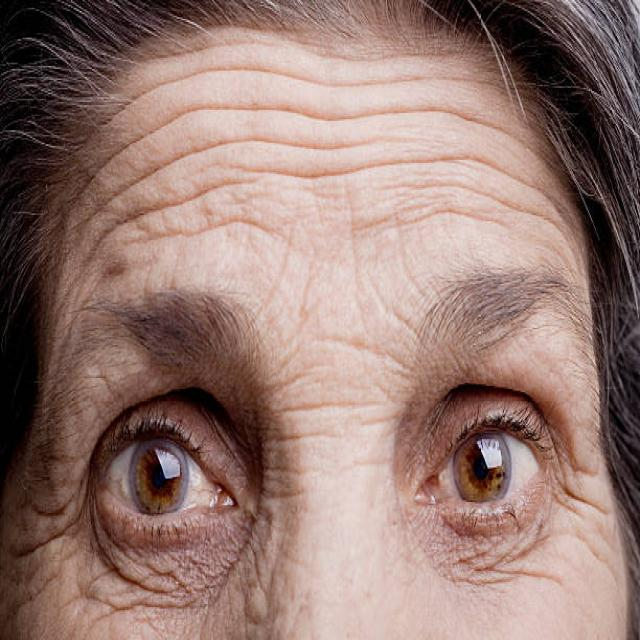Dry-Skin: (132, 63, 538, 290)
